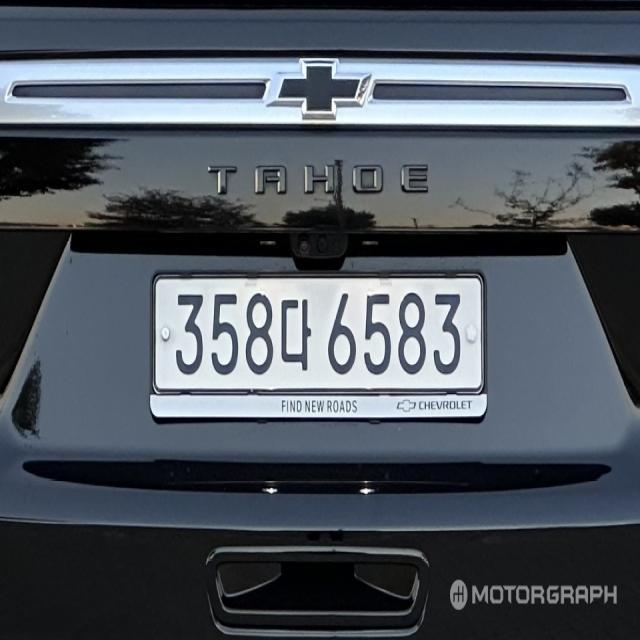car: (118, 225, 524, 467)
